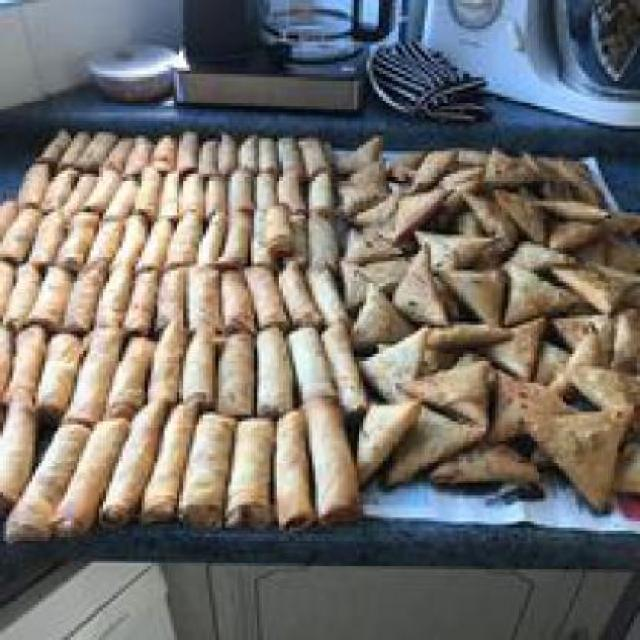spring rolls: (3, 129, 345, 540)
